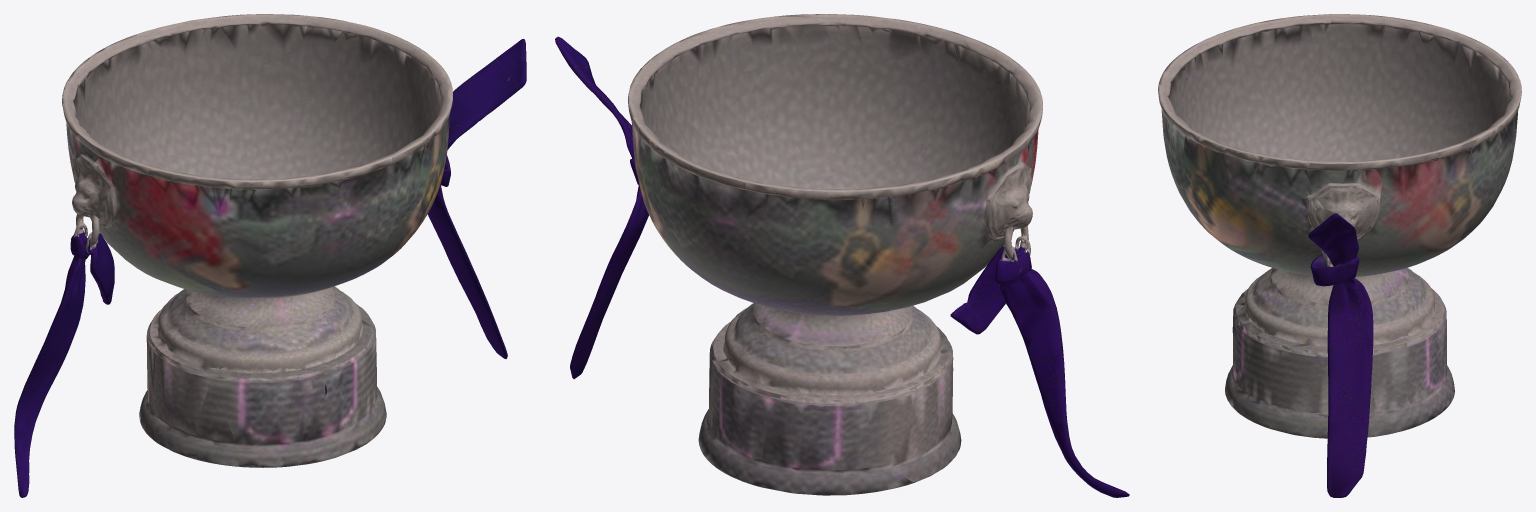
File: f-ail.glb
3 renders of one model, left to right at view 1: azimuth 30°, elevation 25°; view 2: azimuth 150°, elevation 25°; view 3: azimuth 270°, elevation 25°, orthographic. The views are drawn at different scales.
Bounding box in the file's own units: 1.9 × 1.14 × 1.23.
1 material, 1 textured.
